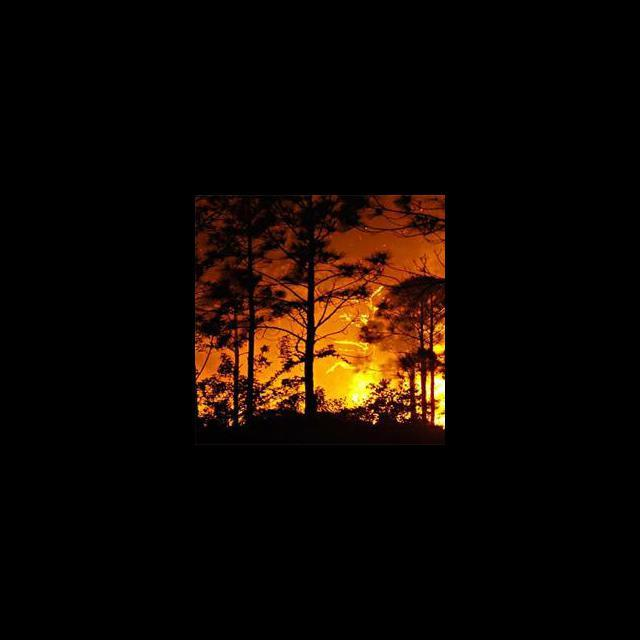Fire: (339, 328, 377, 407), (434, 374, 444, 426)
